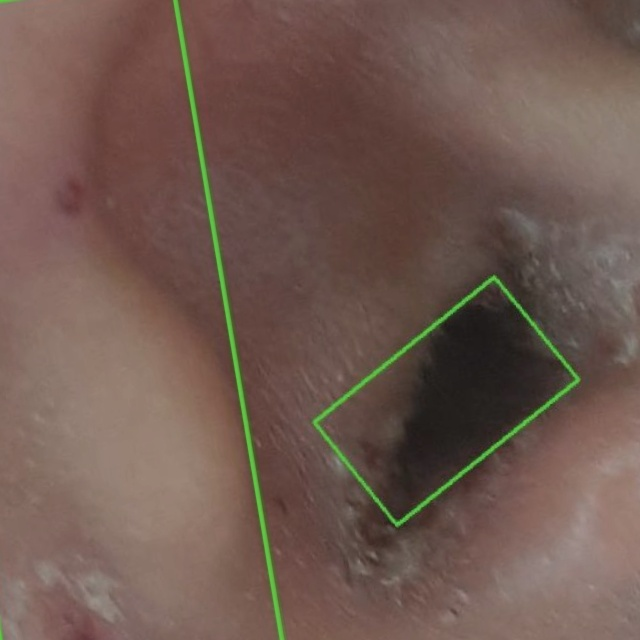Contact Dermatitis: (0, 0, 281, 639), (314, 277, 578, 526)
